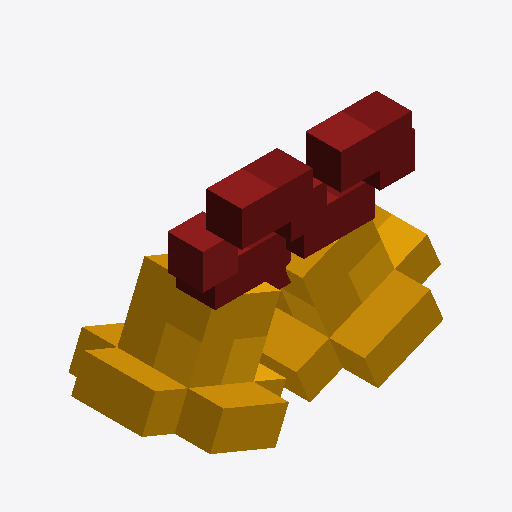
Isometric view (azimuth 45°, elevation 35.3°) of a Minecraft model made of 16 cuboids, textured from the same repository.
Parts seen in each view (by area): B7, B8, B1, B5, F7, B2, F6, B4, F4, F3, F2, B6 (+2 smaller).
Part boxes in pixels (x1,y1,x2,y2): B7: (118,254,280,387); B8: (276,220,393,337); B1: (329,269,442,387); B5: (71,347,285,436); F7: (206,148,312,249); B2: (259,204,440,401); F6: (306,91,411,192); B4: (175,382,288,453); F4: (168,211,237,292); F3: (176,232,285,309); F2: (286,181,374,258); B6: (69,323,123,376).
Bounding box in the file's own units: 8.45 × 6.69 × 4.